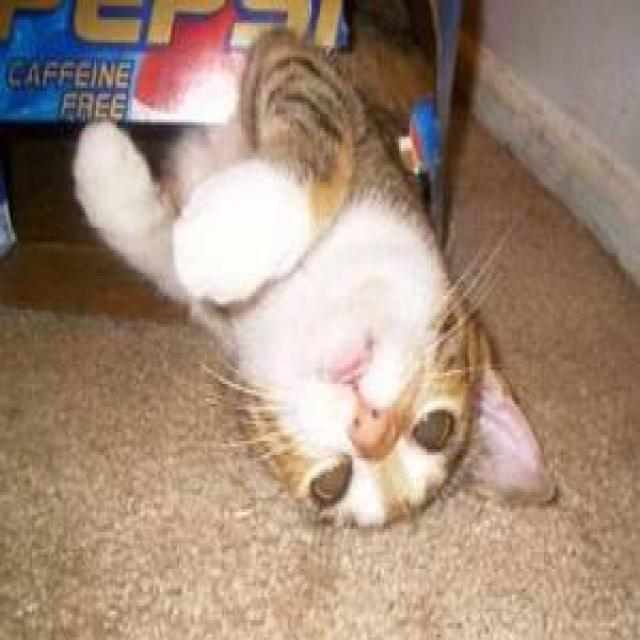Abyssinian: (211, 238, 567, 545)
